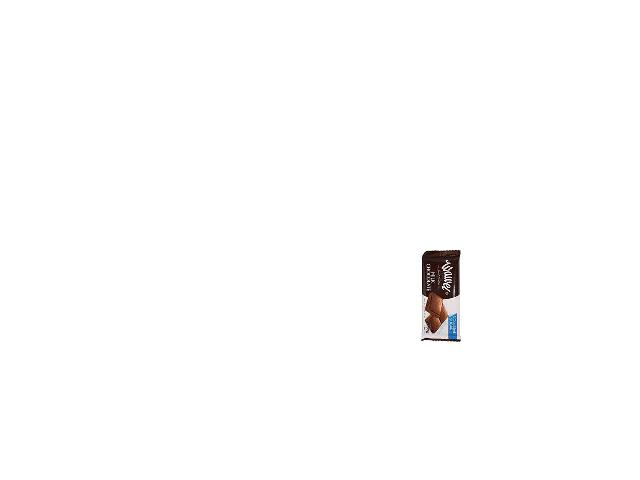chocolate: (419, 251, 462, 342)
